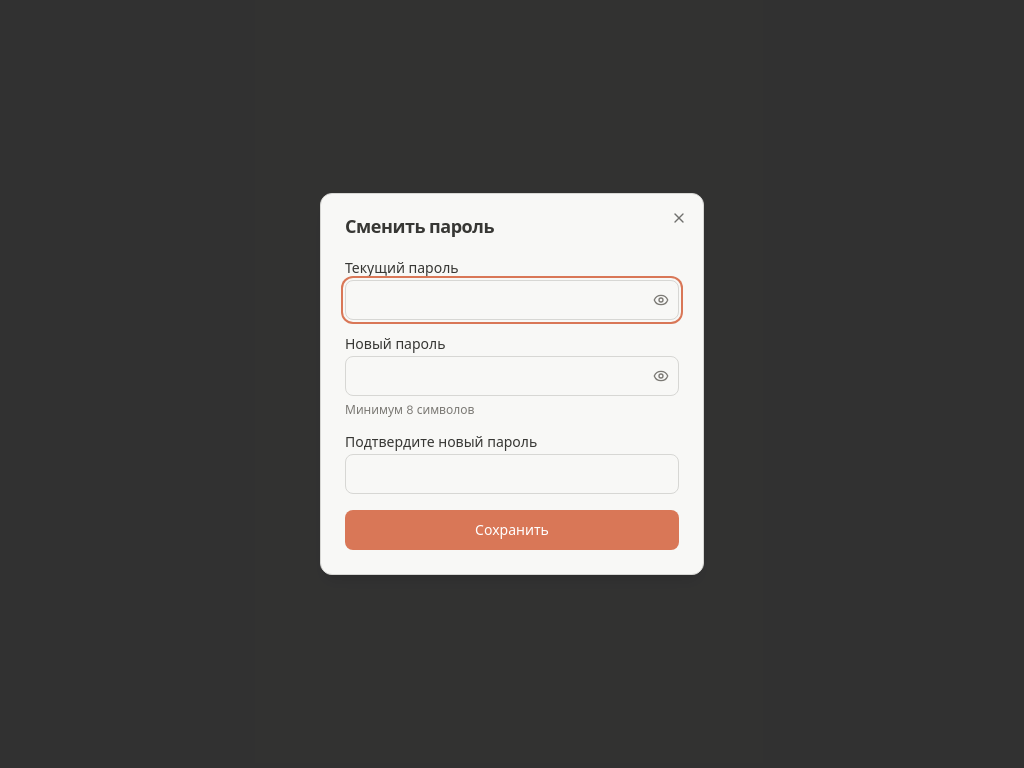
Scenario: ChangePasswordDialog › валидирует минимальную длину нового пароля
Type "oldpass123" into the password field labelled "Текущий пароль".
click(512, 300); type("oldpass123")  # box [345,280,679,320]
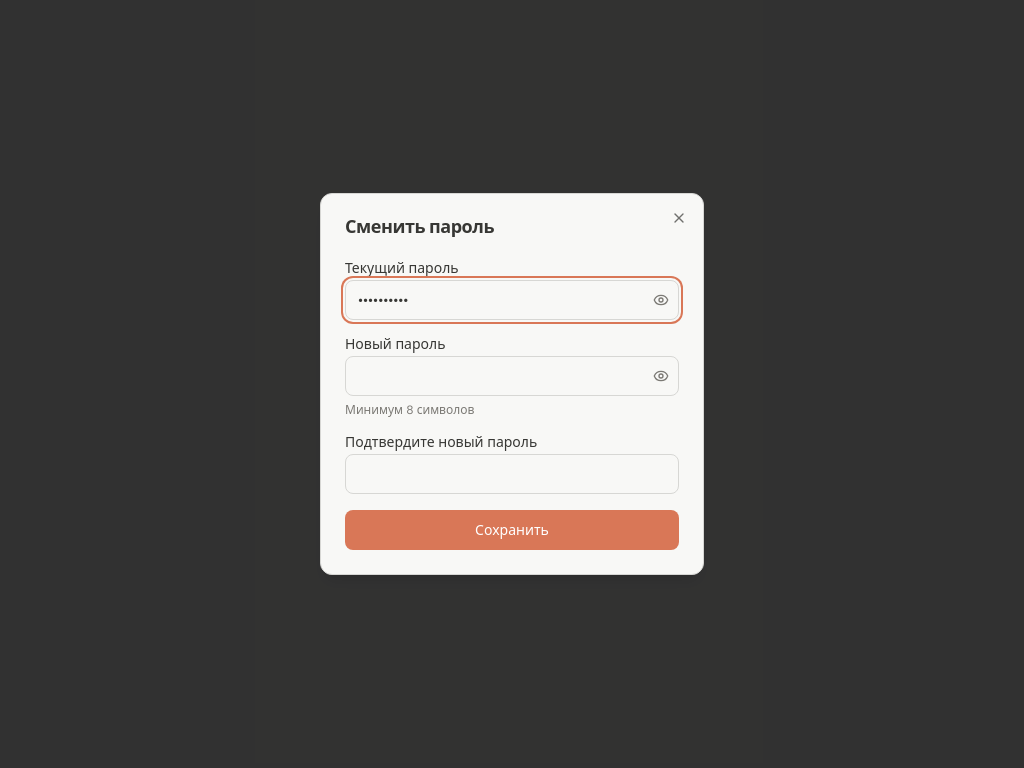
Type "short" into the password field labelled "Новый пароль".
click(512, 376); type("short")  # box [345,356,679,396]
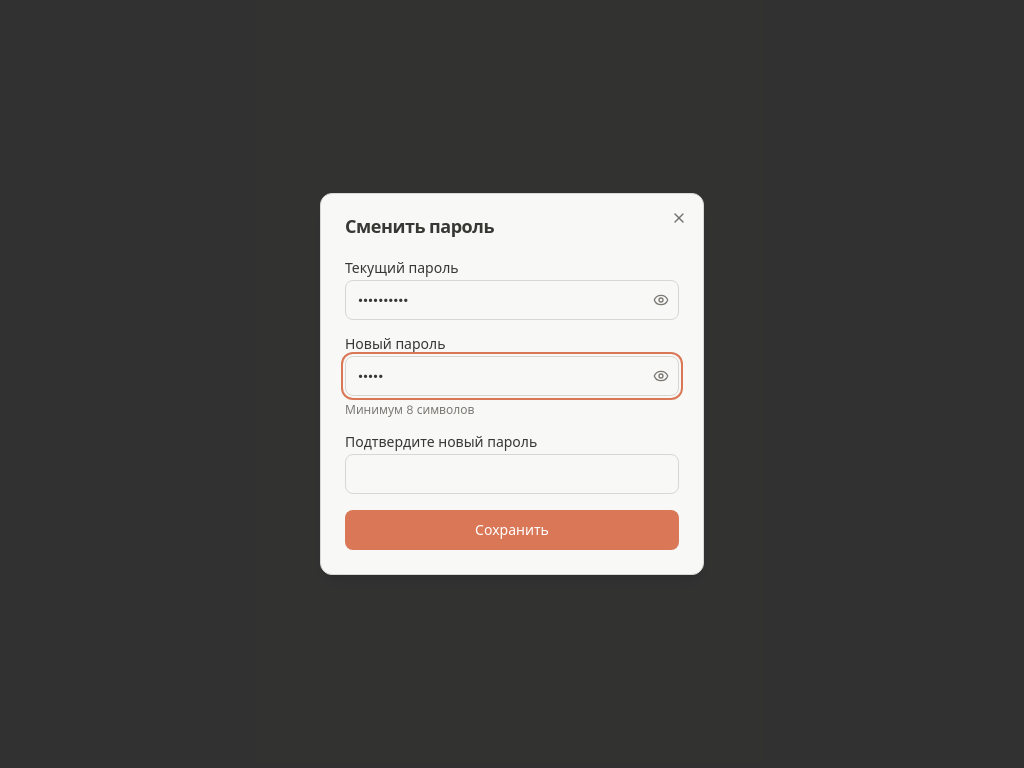
Type "short" into the password field labelled "Подтвердите новый пароль".
click(512, 474); type("short")  # box [345,454,679,494]
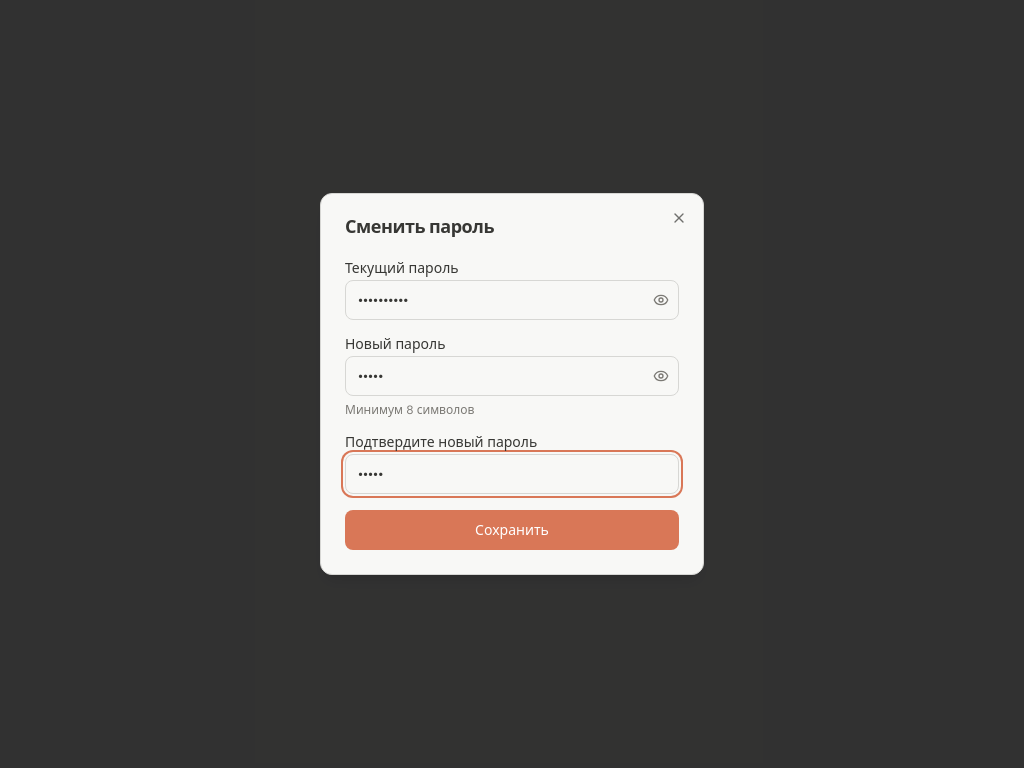
Click the button "Сохранить".
click(512, 530)  # box [345,510,679,550]
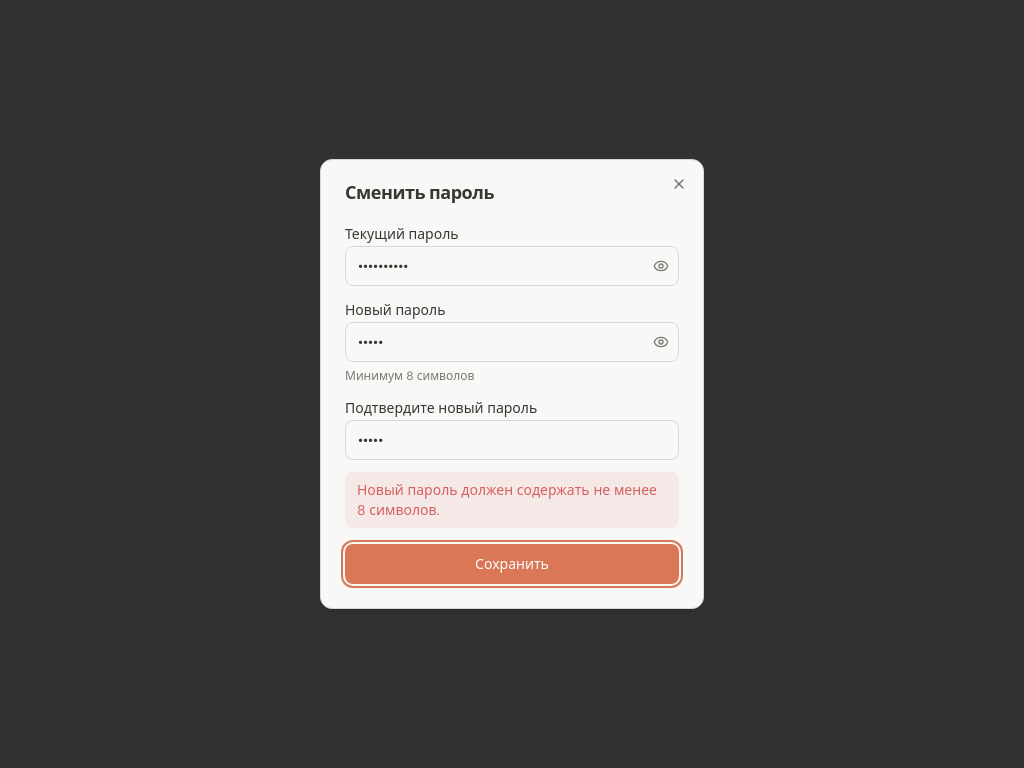
Now the text "Новый пароль должен содержать не менее 8 символов." is shown, box [345,472,679,528]
